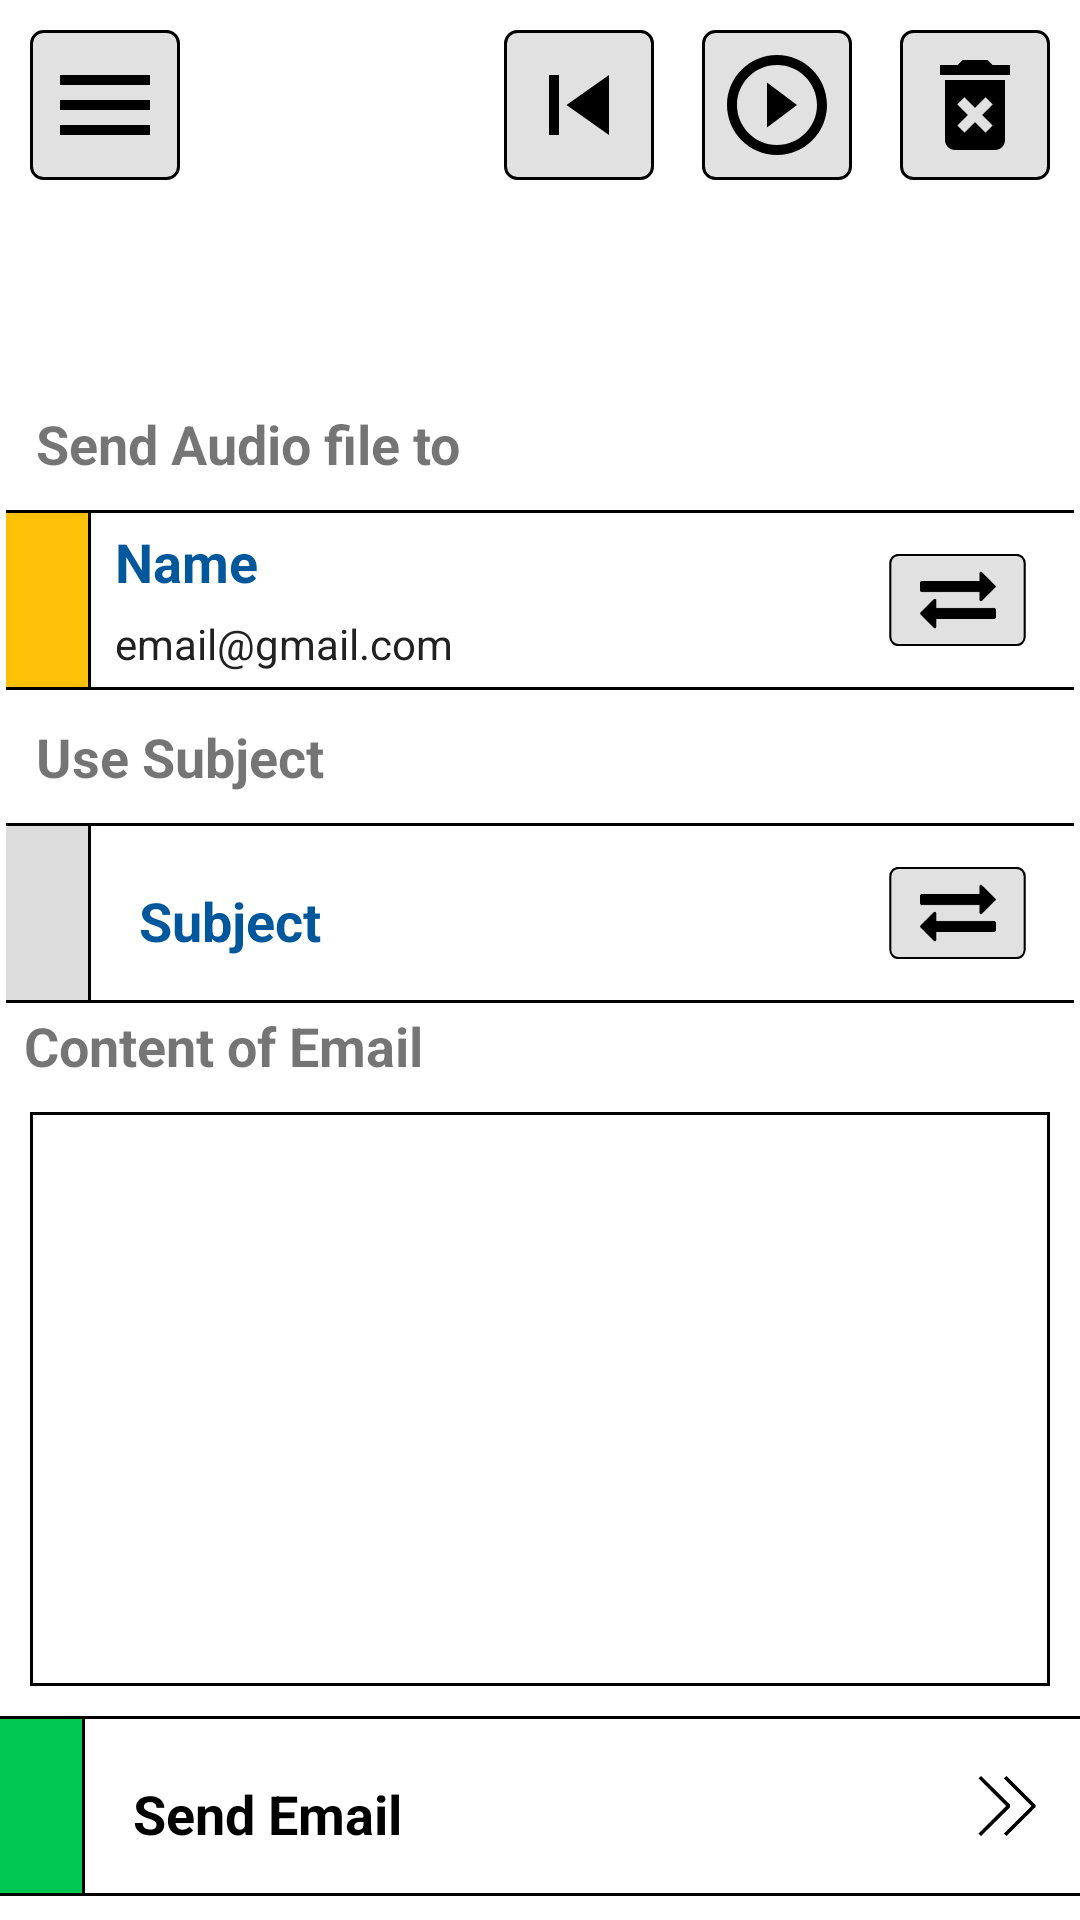

Named icons in this screenshot (1080 x 1920) and their centers, (x,y):
delete forever: (975,105)
fast forward: (1007,1806)
menu: (105,105)
play circle: (777,105)
skip previous: (579,105)
